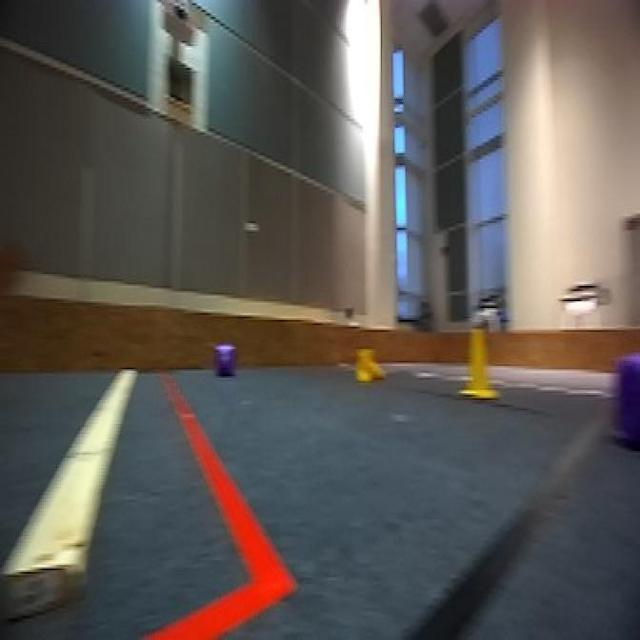frc_cone: (456, 322, 499, 402), (352, 344, 388, 385)
frc_cube: (614, 328, 640, 462), (214, 344, 236, 379)
